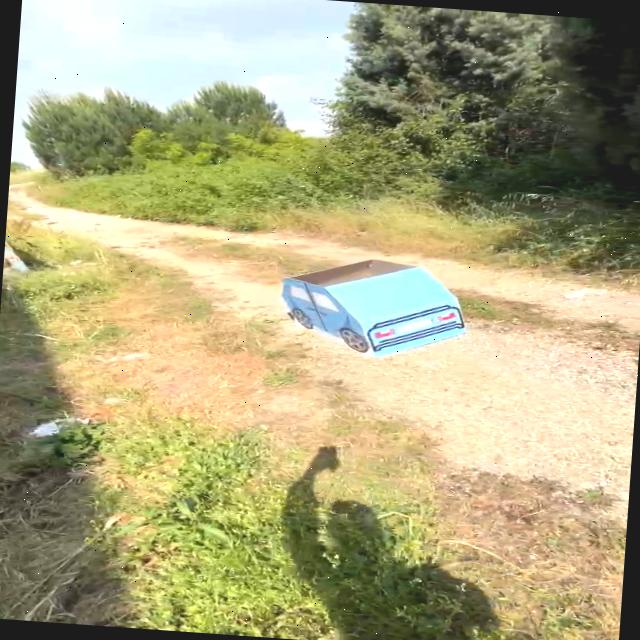blue_car: (250, 239, 509, 370)
